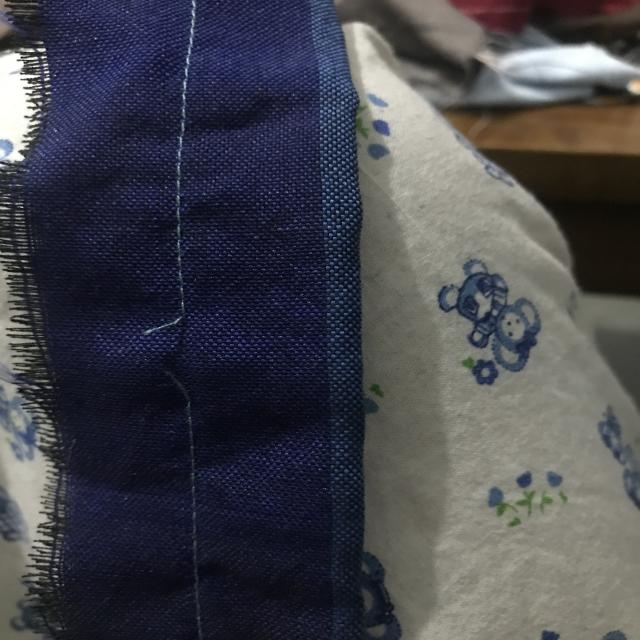broken: (139, 286, 240, 428)
good: (161, 140, 205, 256)
